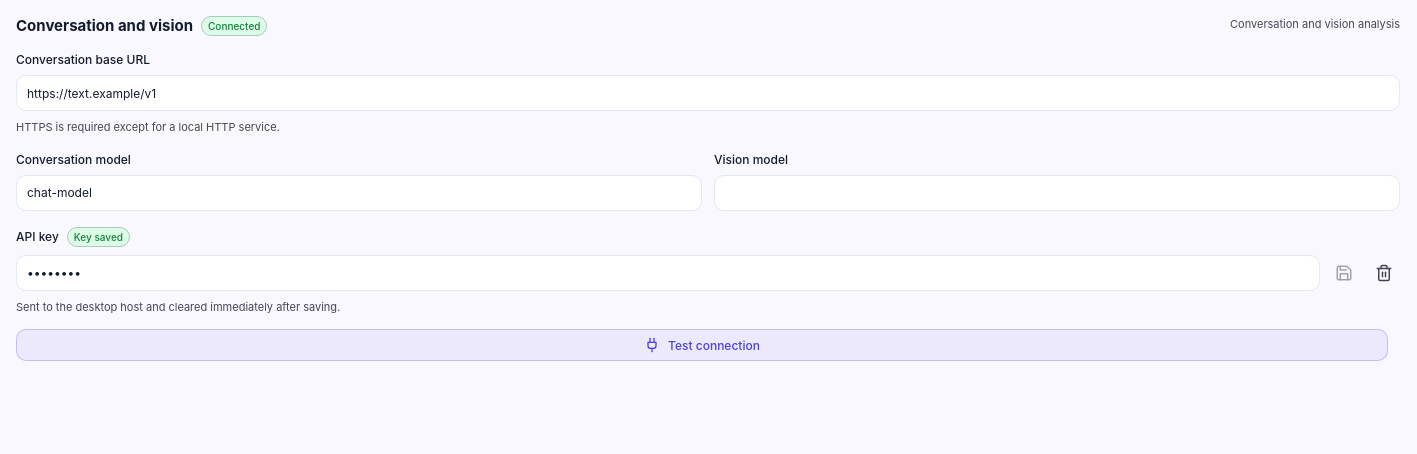
Scenario: tests the conversation connection with its configured model
Click the button "Test connection" at (702, 345), box 16,329 -> 1388,361
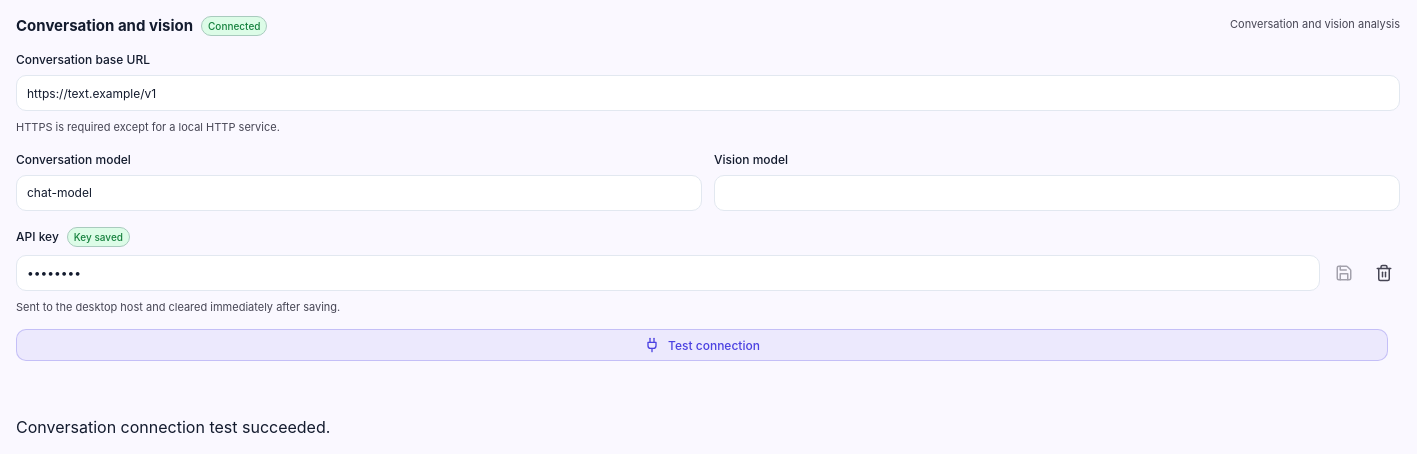
Now the message shows "Conversation connection test succeeded", box 16,417 -> 330,437
